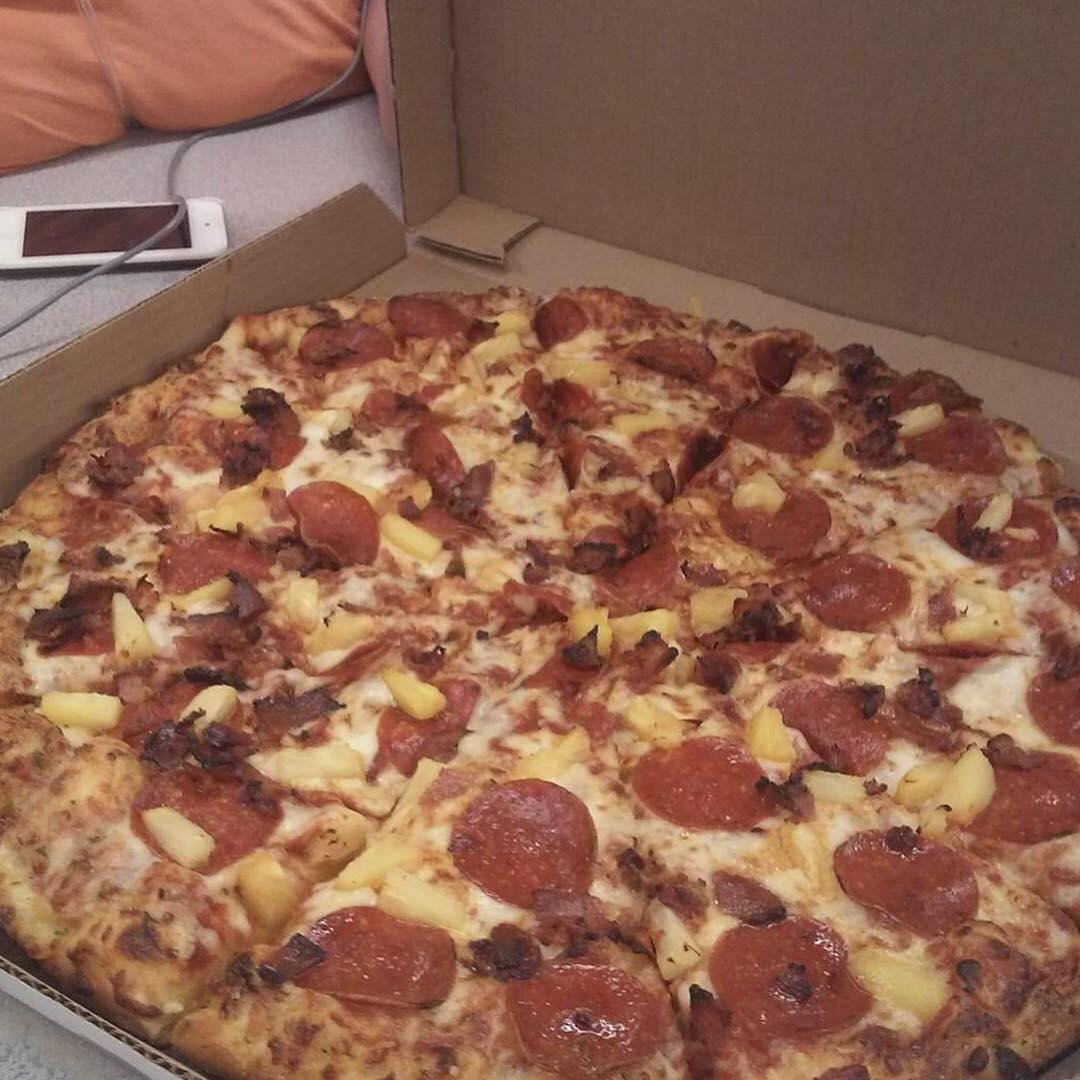Pepperoni: (714, 908, 867, 1036), (511, 954, 665, 1074), (448, 788, 596, 909), (291, 911, 445, 1014), (830, 816, 971, 925), (141, 741, 261, 858), (761, 664, 880, 774), (634, 734, 776, 823), (974, 744, 1080, 843), (394, 414, 498, 507), (564, 538, 676, 614), (288, 474, 376, 561), (368, 678, 467, 754), (184, 401, 298, 467), (158, 528, 265, 596), (734, 481, 823, 561), (811, 554, 905, 623), (608, 324, 716, 381), (901, 414, 996, 476), (38, 491, 134, 552), (728, 394, 825, 454), (968, 494, 1049, 563), (514, 368, 601, 427), (308, 321, 401, 376), (108, 674, 194, 729), (394, 288, 474, 330), (534, 298, 592, 336)
Pineapple: (268, 571, 376, 663), (591, 371, 700, 449), (534, 608, 680, 663), (334, 814, 427, 898), (744, 804, 845, 880), (928, 584, 1027, 649), (441, 331, 512, 421), (861, 948, 951, 1018), (174, 468, 270, 527), (894, 754, 991, 812), (221, 841, 290, 920), (354, 661, 441, 716), (28, 688, 116, 736), (674, 584, 747, 641), (381, 518, 450, 576), (101, 588, 154, 660), (174, 584, 236, 621), (888, 401, 945, 438)
Pizza: (4, 284, 1080, 1080)
